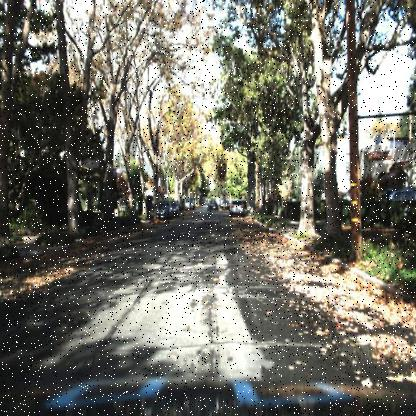car: (152, 199, 173, 222), (229, 198, 245, 219), (184, 193, 195, 211), (204, 198, 219, 211), (171, 195, 179, 216), (221, 198, 232, 212)
